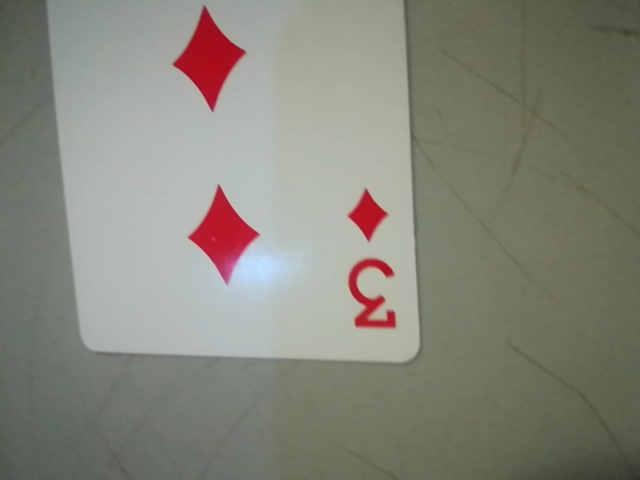fk 3: (329, 178, 411, 346)
